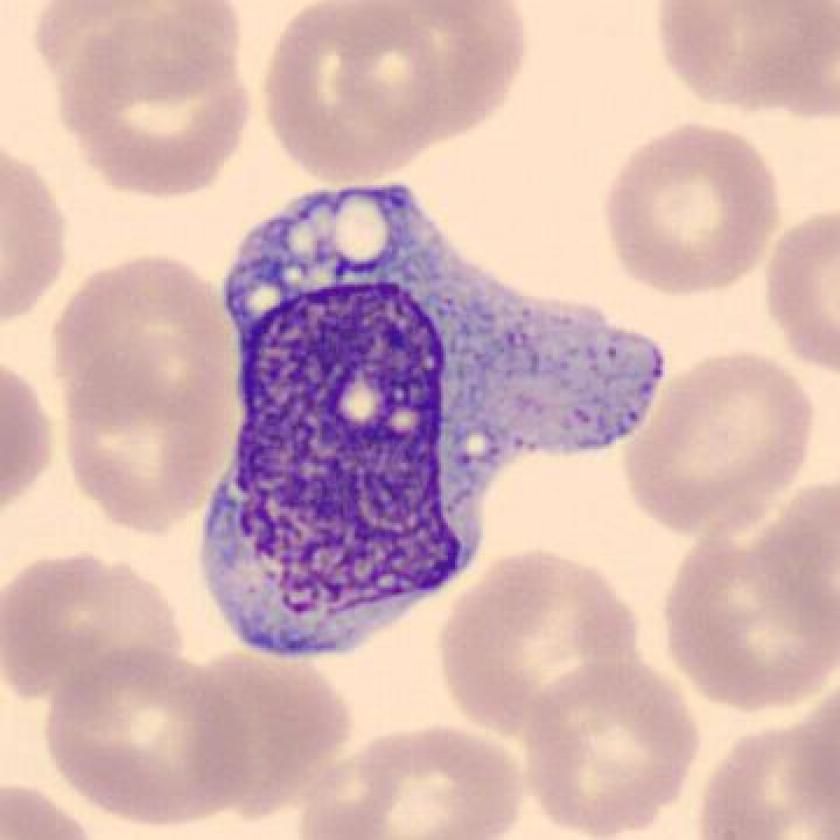monocyte: (193, 163, 683, 700)
